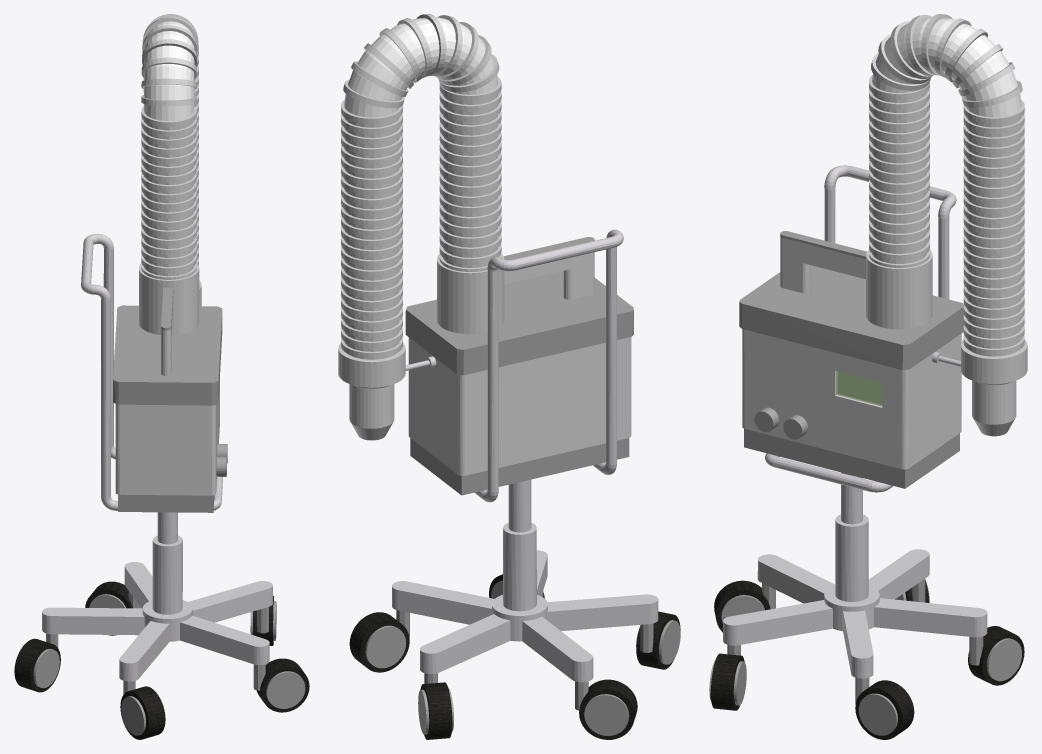
The model's file is Patientenwärmer.fbx.
3 views of the same model, side by side, from view 1: azimuth 30°, elevation 25°; view 2: azimuth 150°, elevation 25°; view 3: azimuth 270°, elevation 25° (orthographic). The views are drawn at different scales.
Visible parts, largest first — view 1: Kunststoff PE, weiss, Stahl, rostfrei, Farbe, grau, Asphalt, Farbe, weiß; view 2: Kunststoff PE, weiss, Stahl, rostfrei, Farbe, grau, Farbe, weiß, Asphalt; view 3: Kunststoff PE, weiss, Farbe, grau, Stahl, rostfrei, Farbe, weiß, Asphalt, Glas Profilit.
Boxes of the visible parts, x1=… form: Kunststoff PE, weiss: x1=115, y1=14, x2=219, y2=495; Stahl, rostfrei: x1=42, y1=233, x2=272, y2=681; Farbe, grau: x1=33, y1=287, x2=305, y2=735; Asphalt: x1=14, y1=581, x2=309, y2=739; Farbe, weiß: x1=144, y1=21, x2=194, y2=121; Kunststoff PE, weiss: x1=338, y1=14, x2=631, y2=475; Stahl, rostfrei: x1=353, y1=229, x2=658, y2=682; Farbe, grau: x1=365, y1=237, x2=680, y2=735; Farbe, weiß: x1=344, y1=17, x2=498, y2=117; Asphalt: x1=349, y1=574, x2=680, y2=739; Kunststoff PE, weiss: x1=742, y1=14, x2=1027, y2=469; Farbe, grau: x1=709, y1=231, x2=1021, y2=735; Stahl, rostfrei: x1=723, y1=165, x2=1011, y2=678; Farbe, weiß: x1=872, y1=17, x2=1021, y2=117; Asphalt: x1=711, y1=580, x2=1024, y2=739; Glas Profilit: x1=836, y1=371, x2=882, y2=406.
Size of the model in its own units: 59.11 by 57.3 by 135.
Materials: 6 (1 with a texture image).
